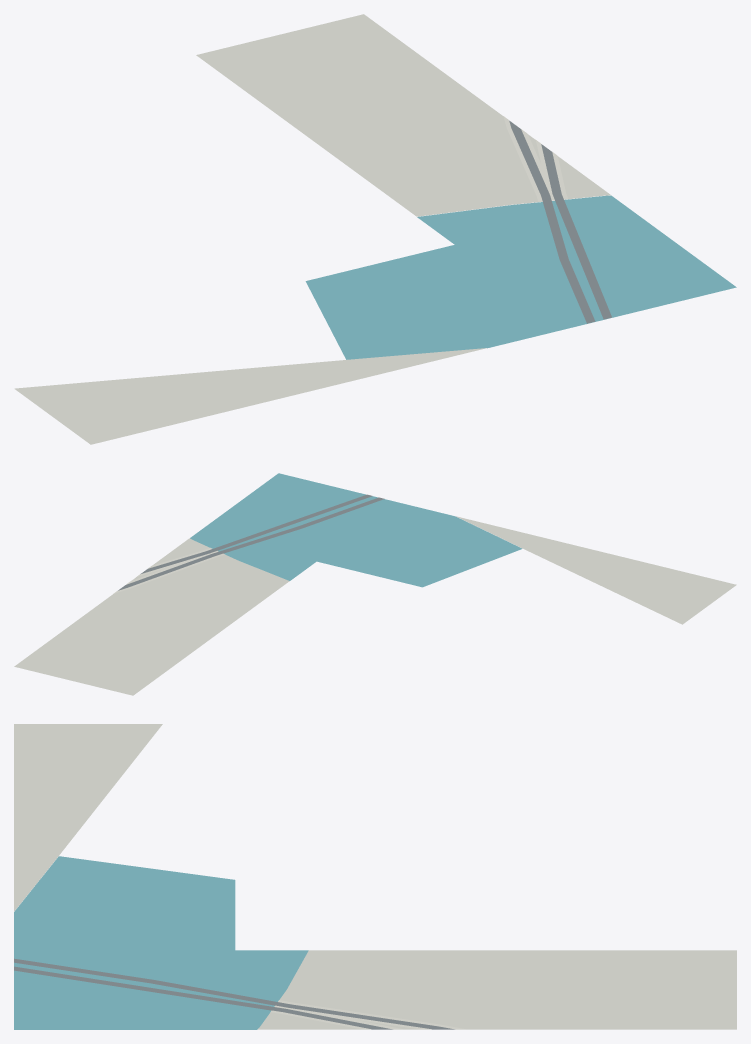
3 renders of one model, top to bottom at view 1: azimuth 30°, elevation 25°; view 2: azimuth 150°, elevation 25°; view 3: azimuth 270°, elevation 25°, orthographic. The views are drawn at different scales.
Parts seen in each view (by area): view 1: city; view 2: city; view 3: city.
Boxes of the visible parts, left/top/right/bottom form: city: left=14, top=14, right=736, bottom=444; city: left=14, top=473, right=736, bottom=695; city: left=14, top=724, right=736, bottom=1029.
Size of the model in its own units: 500 by 0.4 by 500.
